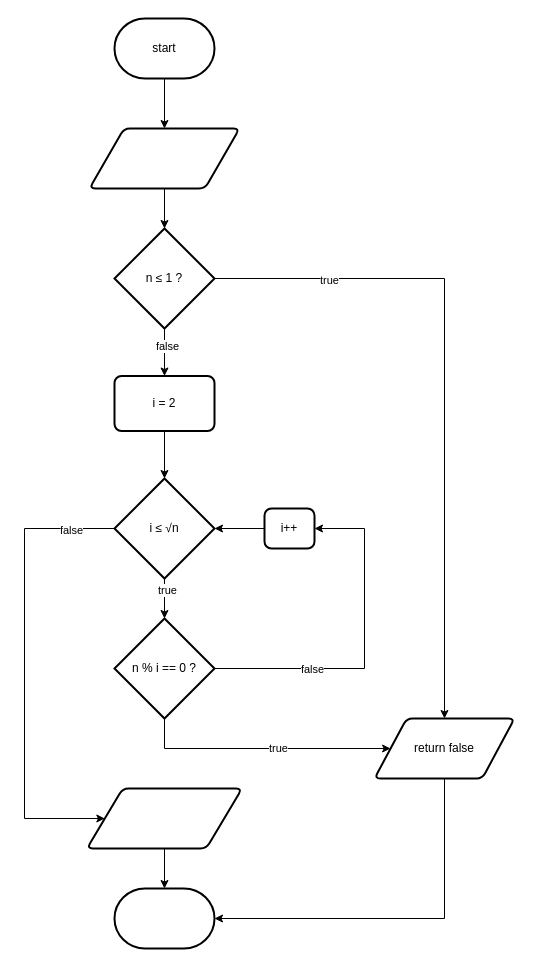
Some shapes in this 533 by 966 pixel diagram are drawn without their labels. Here are the shapes that lost their labels. From the top down, the box of each, then its label:
(88, 127, 240, 189): input n
(86, 787, 242, 849): return true
(113, 887, 215, 949): end
